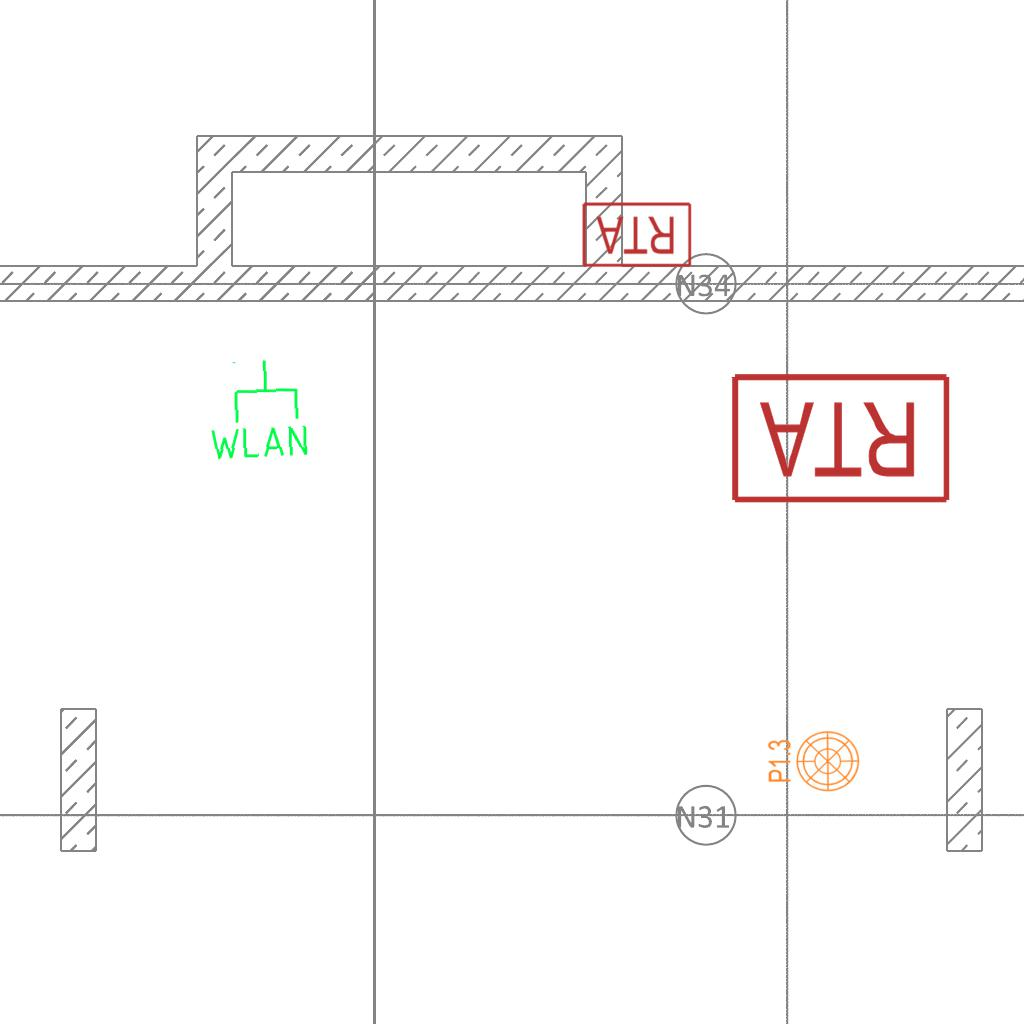Aufbaurundleuchte_LED_Treppenhaus: (759, 724, 861, 793)
Ruf-und_Abstelltaster: (729, 369, 957, 507), (581, 200, 695, 269)
WLAN: (201, 354, 313, 465)
